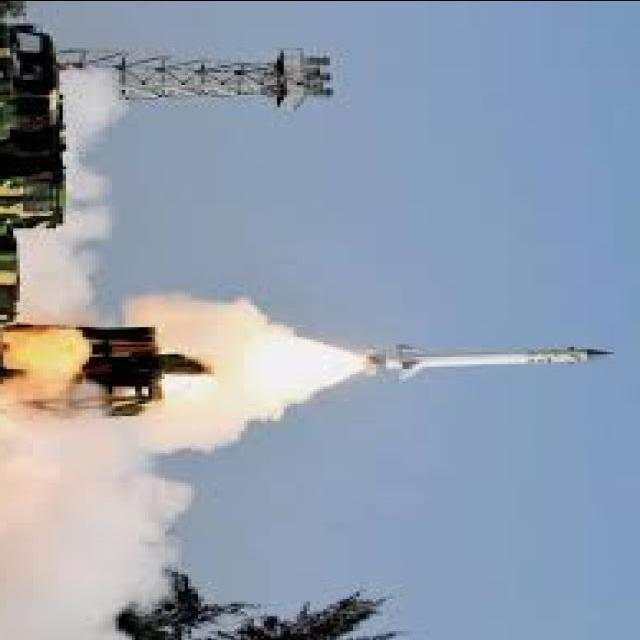missile: (369, 337, 617, 394)
